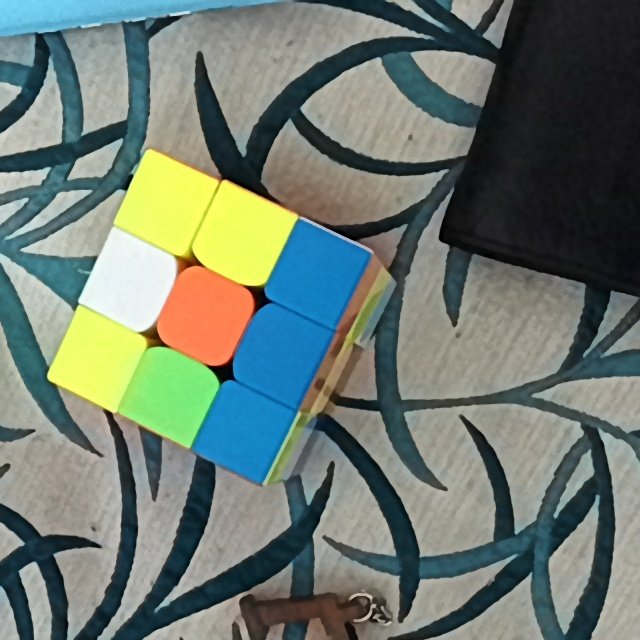tile: (132, 175, 197, 234), (212, 202, 269, 267), (173, 290, 237, 347), (248, 328, 312, 384), (99, 251, 157, 311), (289, 243, 346, 304), (212, 406, 273, 458), (137, 371, 196, 423), (70, 332, 125, 385)
